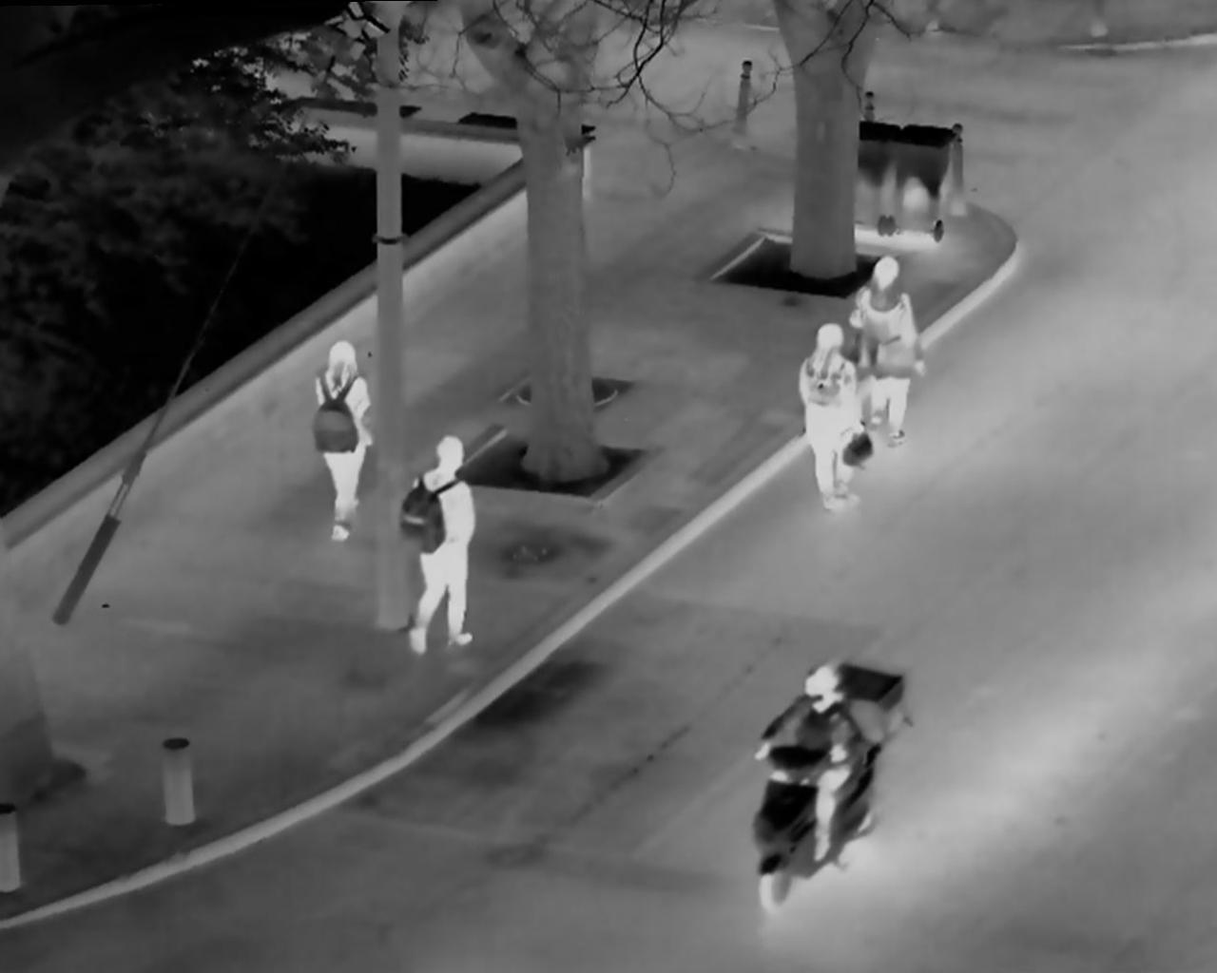person: (395, 421, 500, 658), (745, 662, 859, 868), (297, 333, 387, 550), (786, 309, 874, 530), (848, 246, 933, 453)
